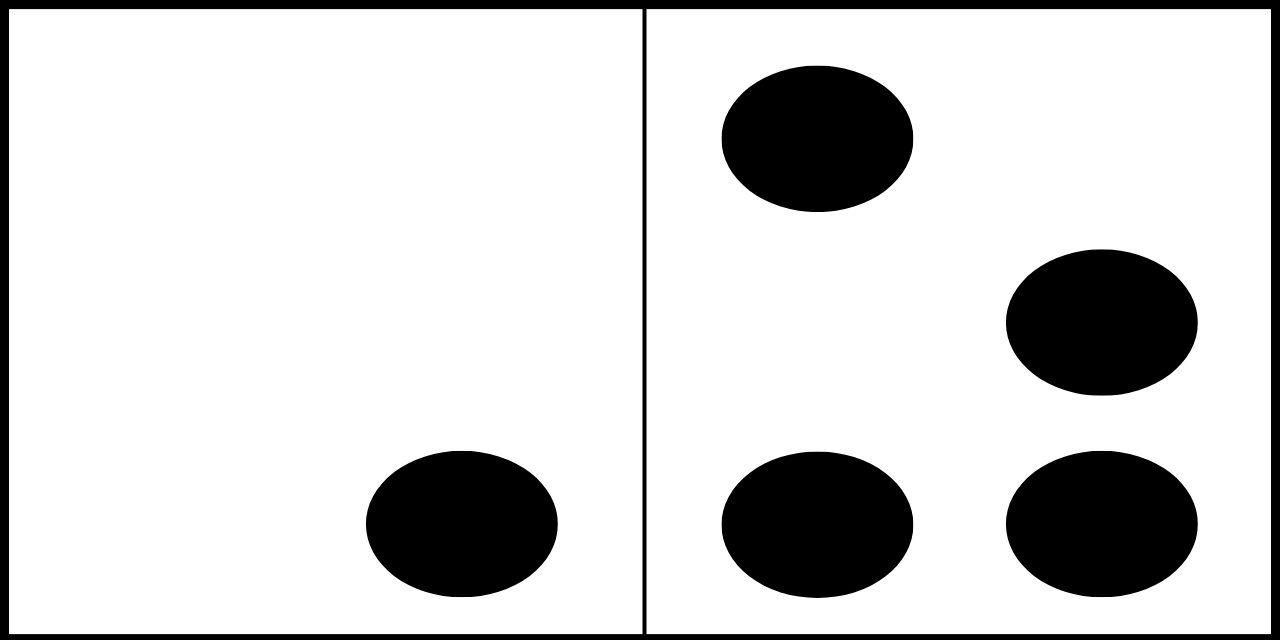Z: (718, 63, 1198, 598)
capital: (117, 59, 560, 596)
